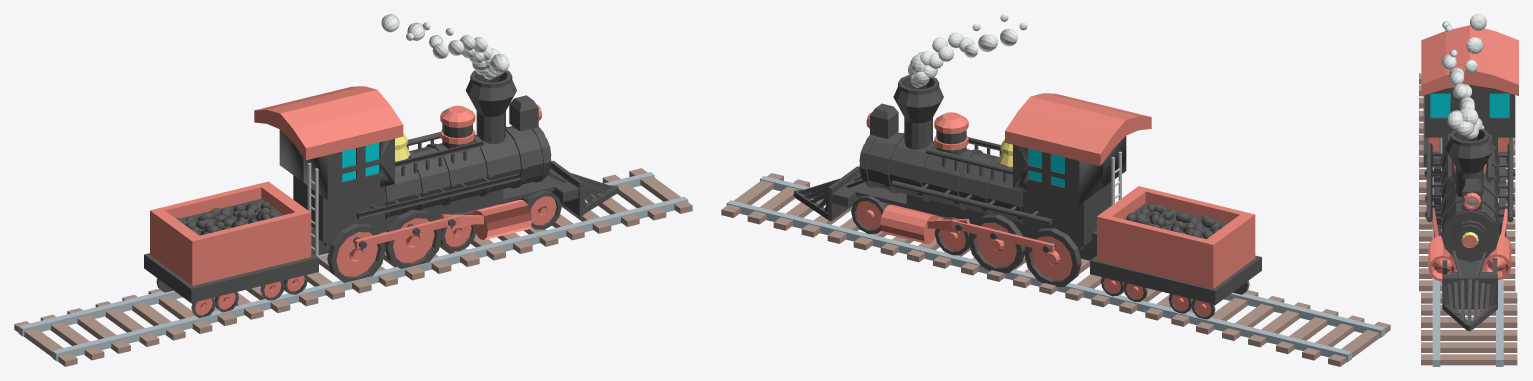
The model's file is train.fbx.
3 views of the same model, side by side, from view 1: azimuth 30°, elevation 25°; view 2: azimuth 150°, elevation 25°; view 3: azimuth 270°, elevation 25° (orthographic). The views are drawn at different scales.
Parts seen in each view (by area): view 1: model; view 2: model; view 3: model.
Part boxes in pixels (x1=…): model: x1=14, y1=14, x2=692, y2=366; model: x1=721, y1=14, x2=1390, y2=366; model: x1=1419, y1=14, x2=1518, y2=366.
Size of the model in its own units: 357 by 131 by 51.89.
